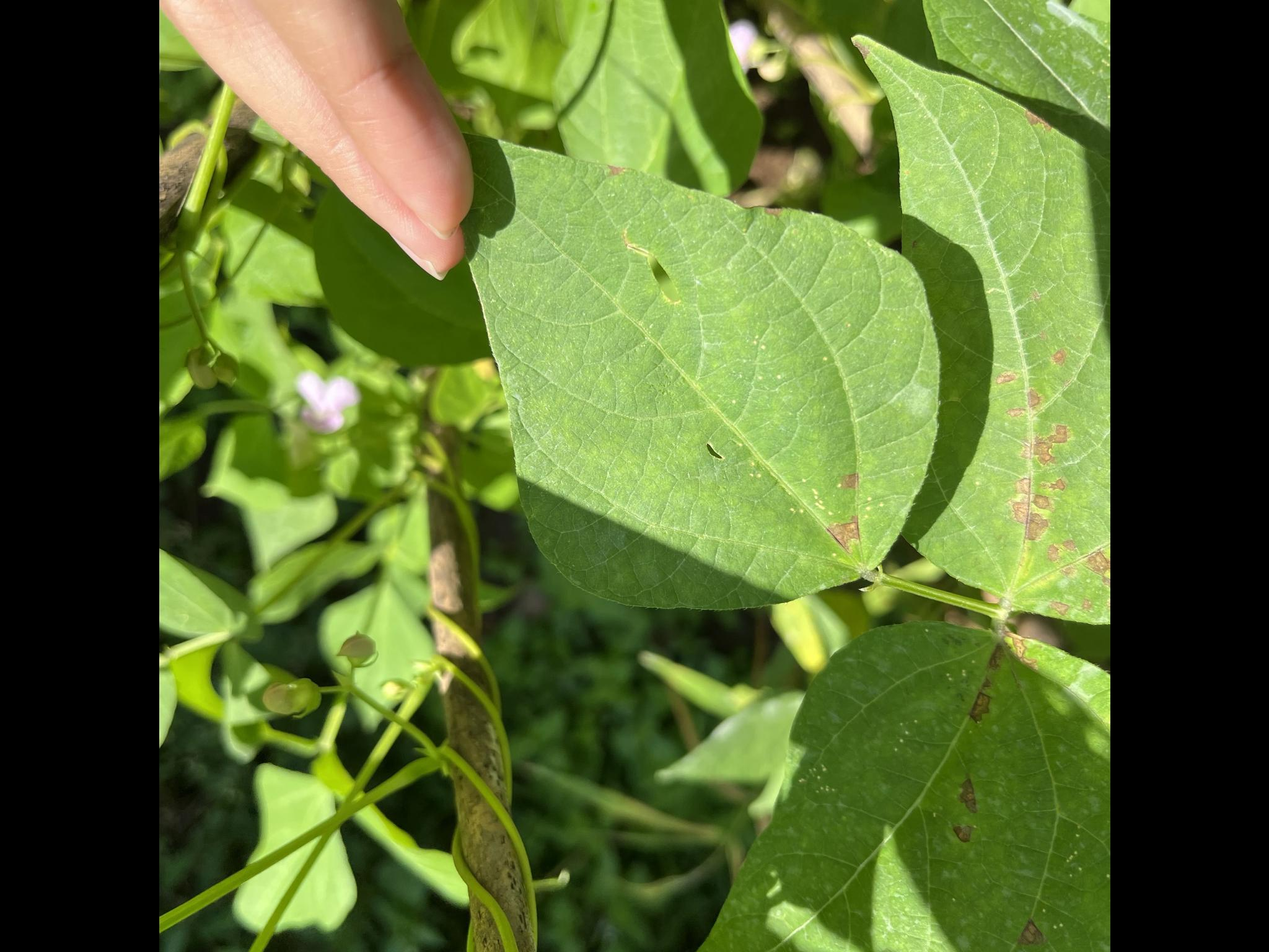mozaik: (624, 240, 691, 311), (687, 441, 729, 473)
